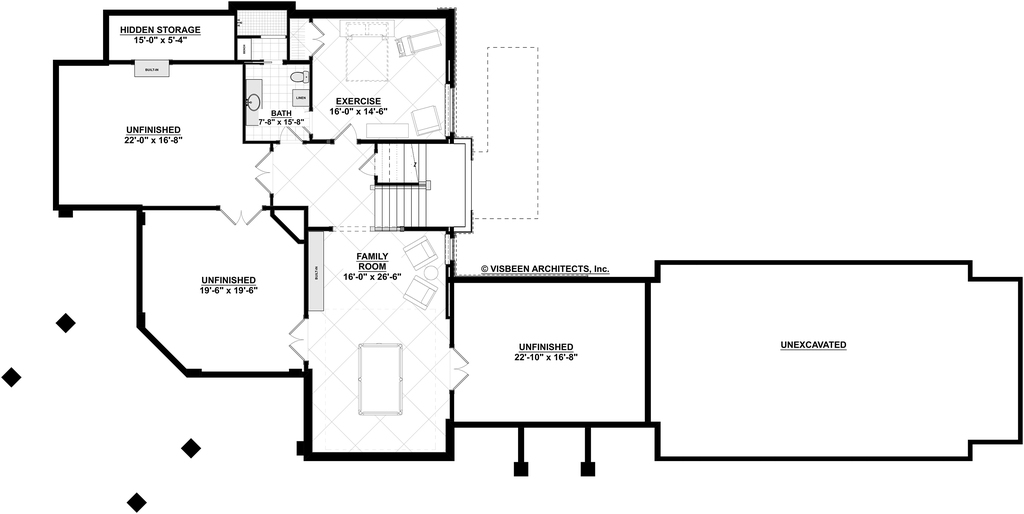bed: (336, 16, 394, 86)
door: (216, 202, 265, 226), (290, 313, 310, 364), (256, 145, 271, 198), (352, 151, 375, 180), (330, 122, 359, 142), (274, 128, 305, 145), (308, 23, 323, 56)
large_sink: (285, 65, 312, 88)
small_sink: (241, 78, 266, 123)
small_sofa: (402, 268, 440, 312), (401, 234, 439, 273), (410, 103, 442, 139)
stairs: (371, 143, 467, 226), (445, 344, 470, 387)
